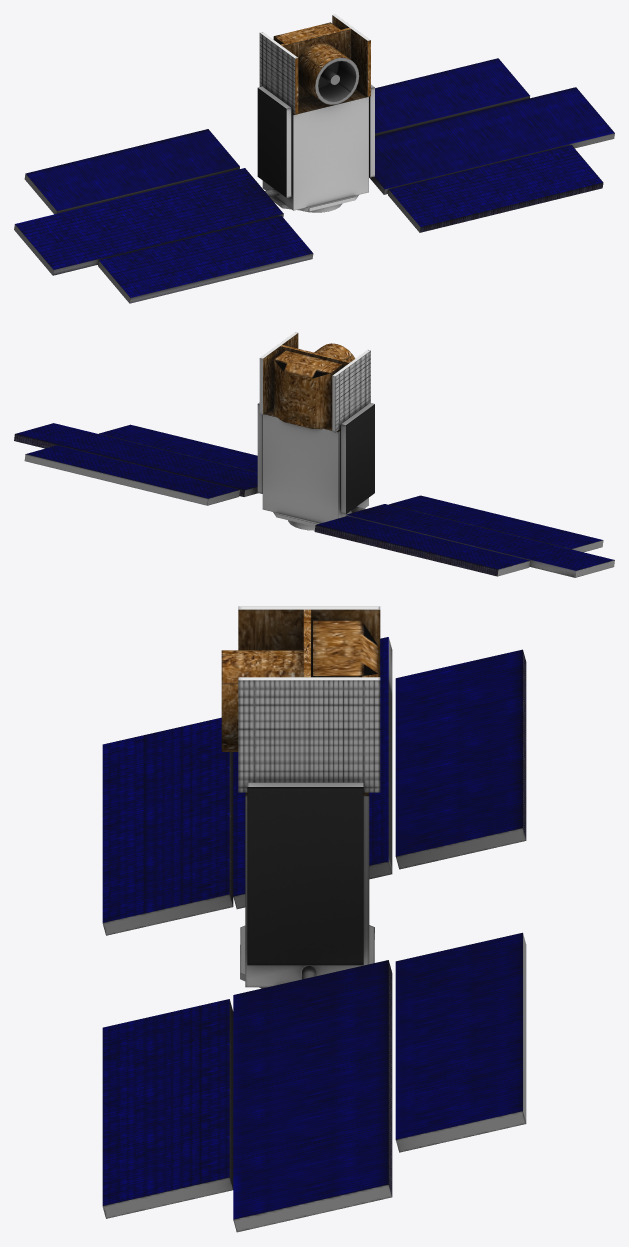
Rendered from Ice, Clouds, and Land Elevation Satellite (ICESat) (A).glb.
The picture shows the model from 3 angles, top to bottom: view 1: azimuth 30°, elevation 25°; view 2: azimuth 150°, elevation 25°; view 3: azimuth 270°, elevation 25°; orthographic projection. The views are drawn at different scales.
Visible parts, largest first — view 1: icesat_pro; view 2: icesat_pro; view 3: icesat_pro.
Boxes of the visible parts, <box> form: icesat_pro: <box>14,14,614,303</box>; icesat_pro: <box>14,332,614,577</box>; icesat_pro: <box>102,606,526,1232</box>.
Size of the model in its own units: 35.6 by 10.45 by 11.64.
Materials: 9 (9 with a texture image).
